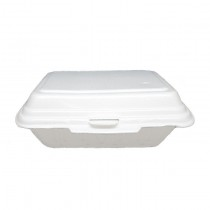Foam Box: (12, 66, 197, 154)
